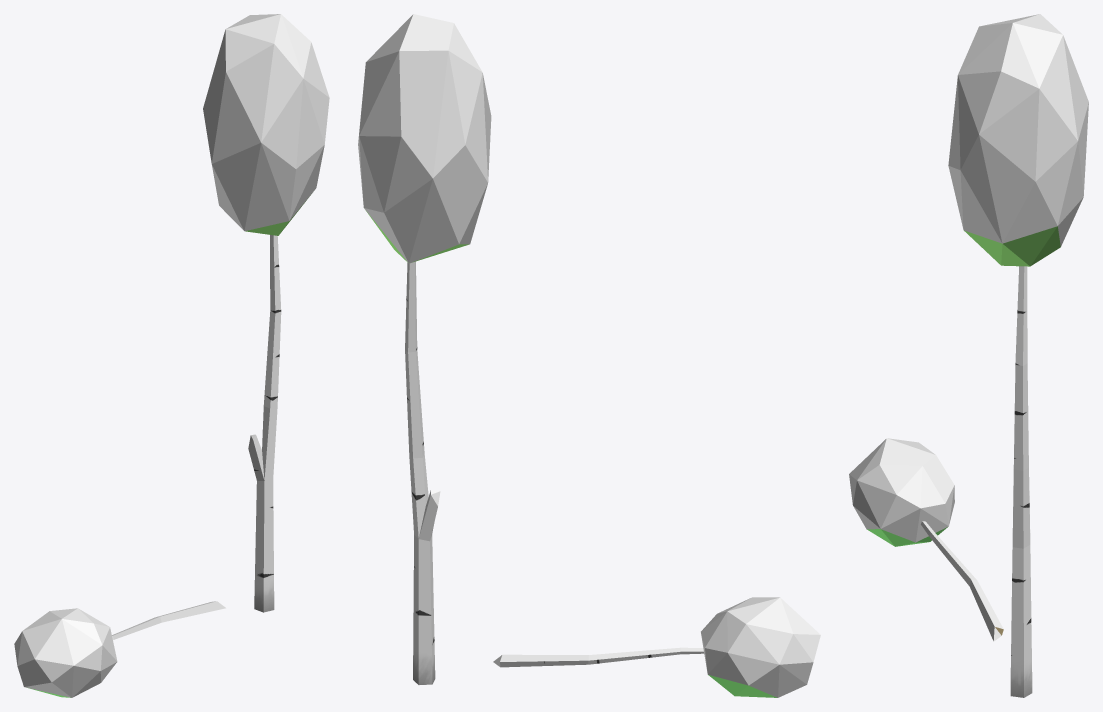
The model's file is Birch_Tree_crk_m_Snow_BT_04.fbx.
3 renders of one model, left to right at view 1: azimuth 30°, elevation 25°; view 2: azimuth 150°, elevation 25°; view 3: azimuth 270°, elevation 25°, orthographic. The views are drawn at different scales.
Visible parts, largest first — view 1: Birch_Tree_crk_m_Snow_BT_04; view 2: Birch_Tree_crk_m_Snow_BT_04; view 3: Birch_Tree_crk_m_Snow_BT_04.
Part boxes in pixels (left/top/right/bottom): Birch_Tree_crk_m_Snow_BT_04: left=14, top=14, right=329, bottom=697; Birch_Tree_crk_m_Snow_BT_04: left=358, top=14, right=820, bottom=697; Birch_Tree_crk_m_Snow_BT_04: left=849, top=14, right=1088, bottom=697.
Size of the model in its own units: 475 by 767 by 246.
